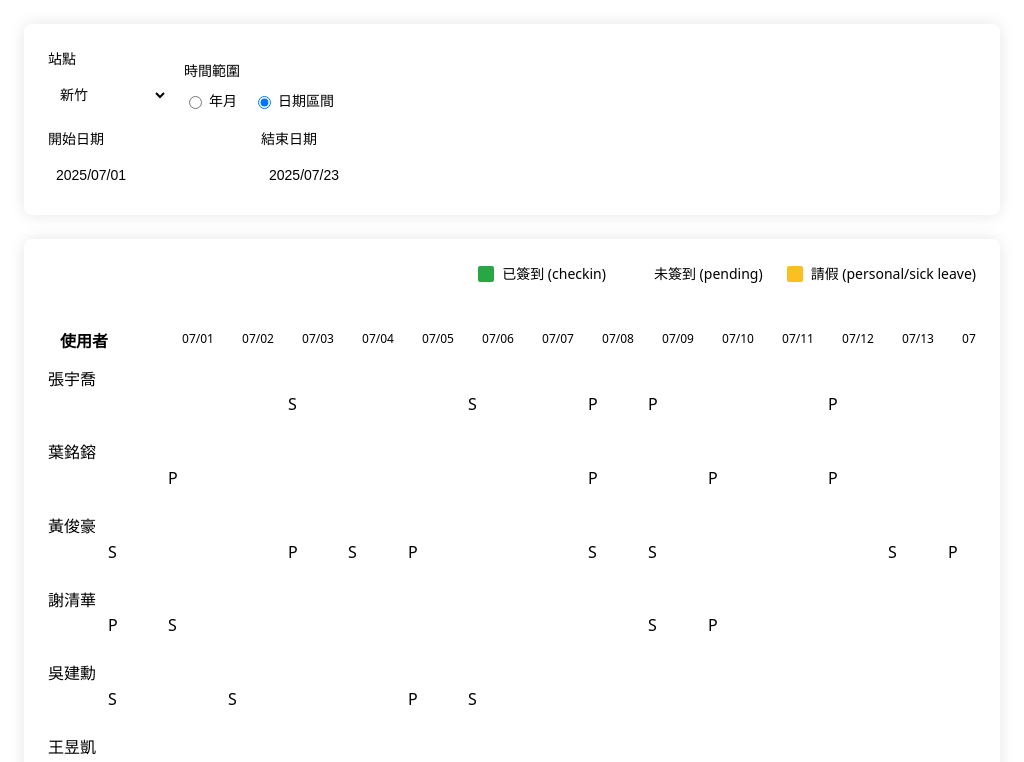
Test case: Summary › allows time range type switching
expect the radio button showing "range" is checked: met, box [258,96,271,109]
#  切換到月份類型
Click the radio button showing "month" at point(196, 103), box [189,96,202,109]
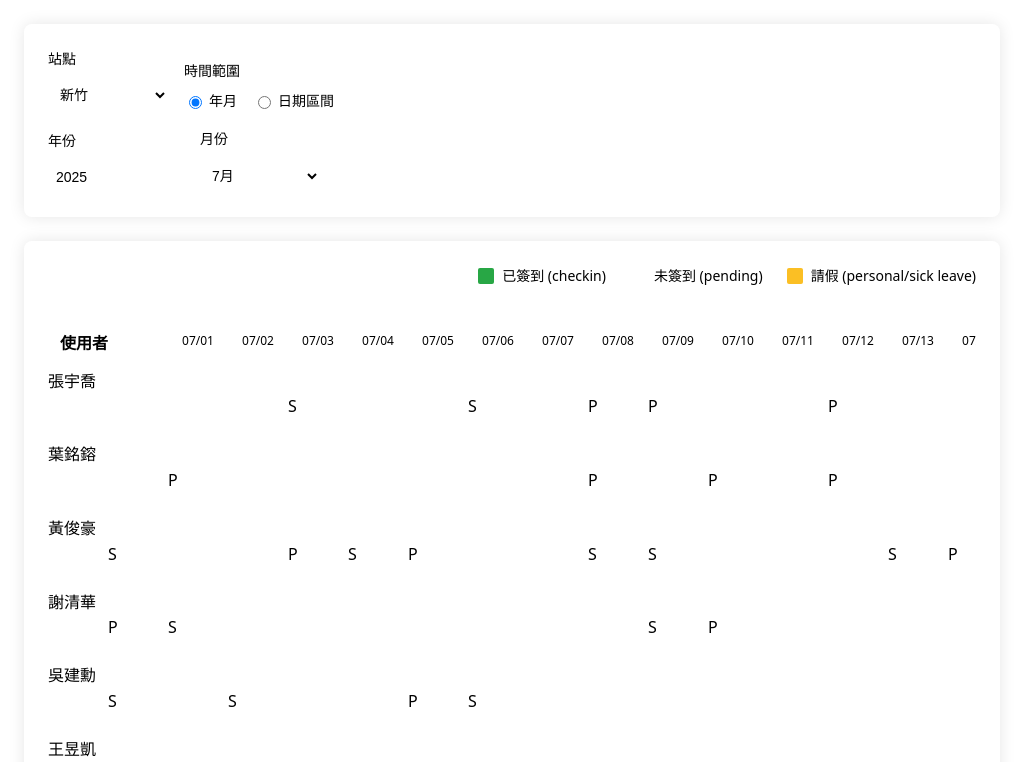
expect the radio button showing "month" is checked: met, box [189,96,202,109]
expect the radio button showing "range" is not checked: met, box [258,96,271,109]
